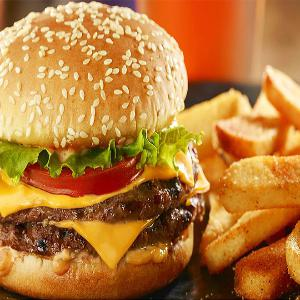cheeseburger: (3, 5, 212, 289)
fries: (206, 62, 300, 299)
